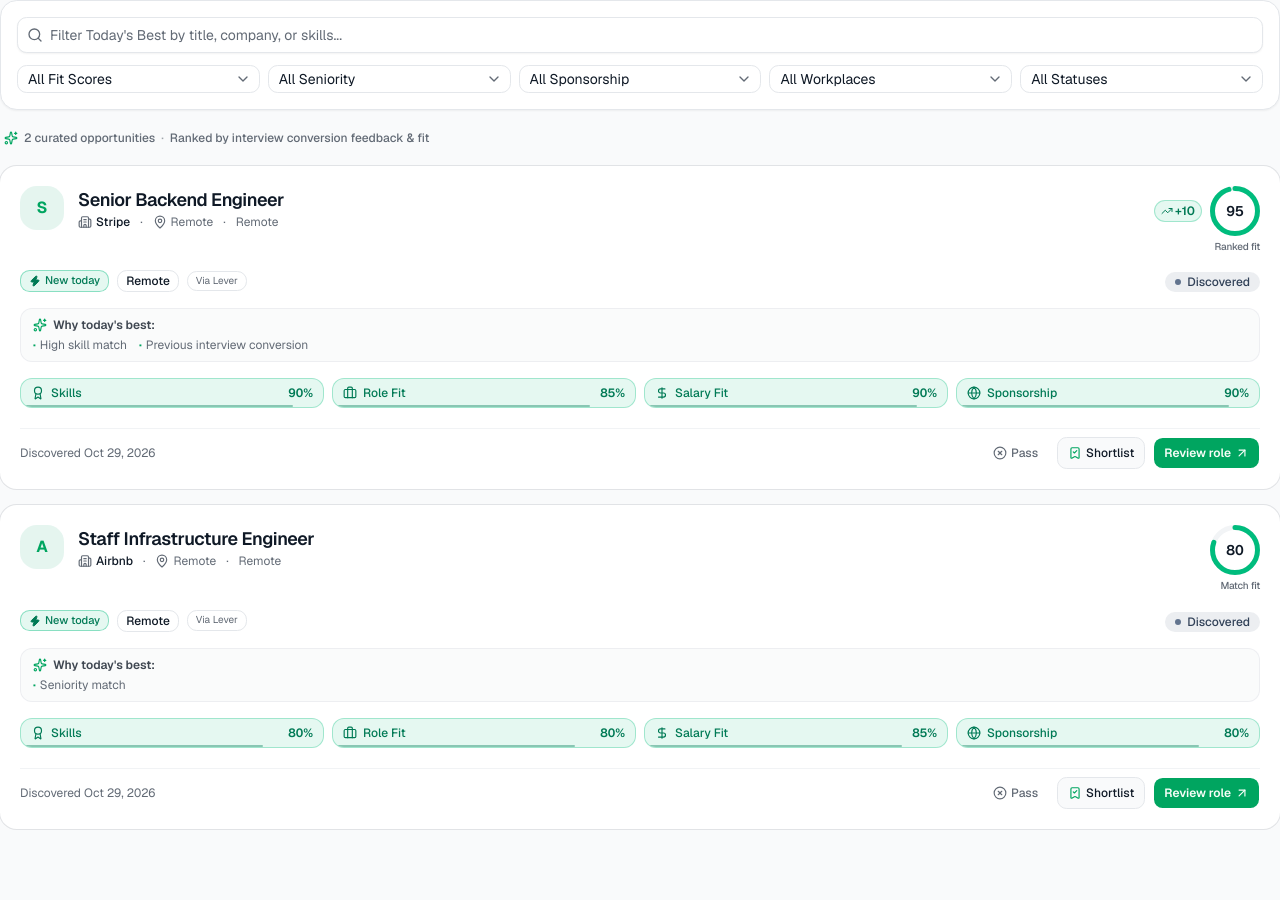
Scenario: keeps a shortlisted card in the feed
Click the button "Shortlist" below "Ranked fit".
click(1101, 453)  # box [1057,437,1145,469]
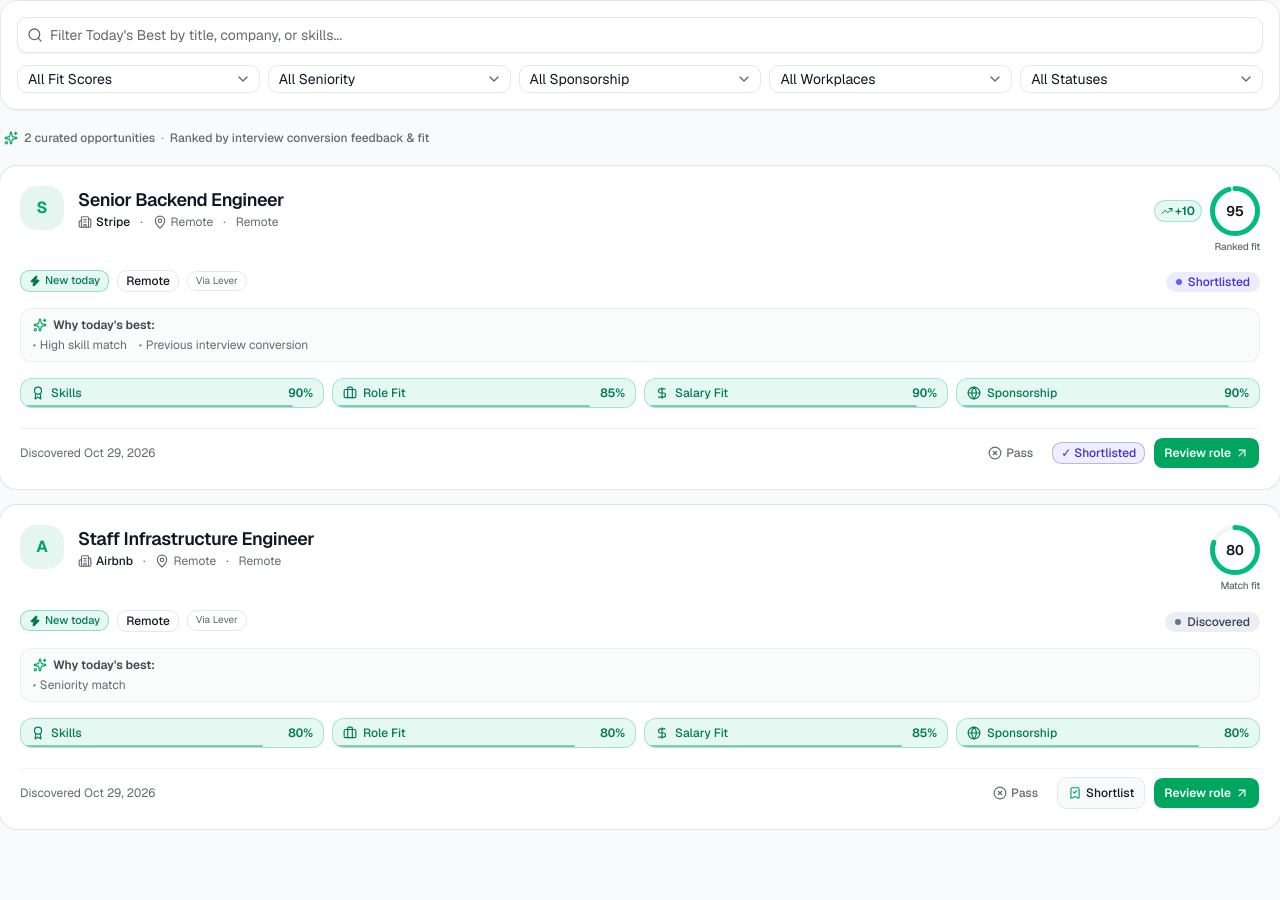
Check: the link "Senior Backend Engineer" is shown, box [78,186,284,214]
Check: the text "✓ Shortlisted" is shown, box [1052,442,1145,464]
